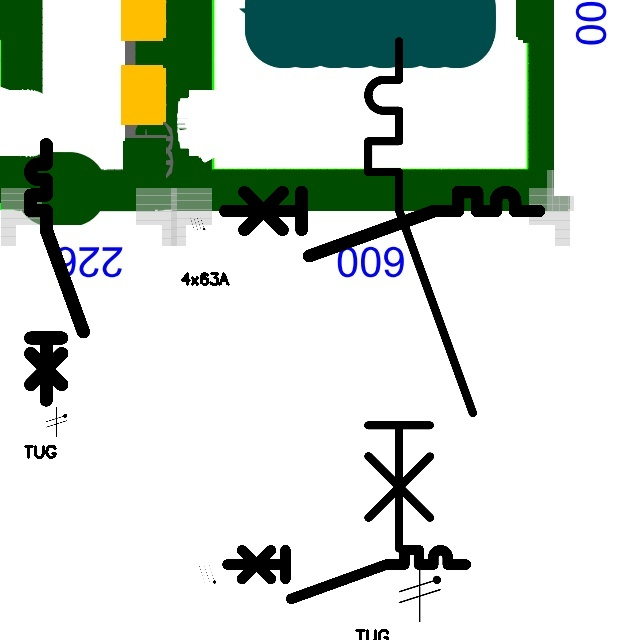interruptor_termomagnetico: (355, 28, 485, 562), (217, 184, 546, 264), (24, 138, 89, 407), (221, 544, 471, 605)
